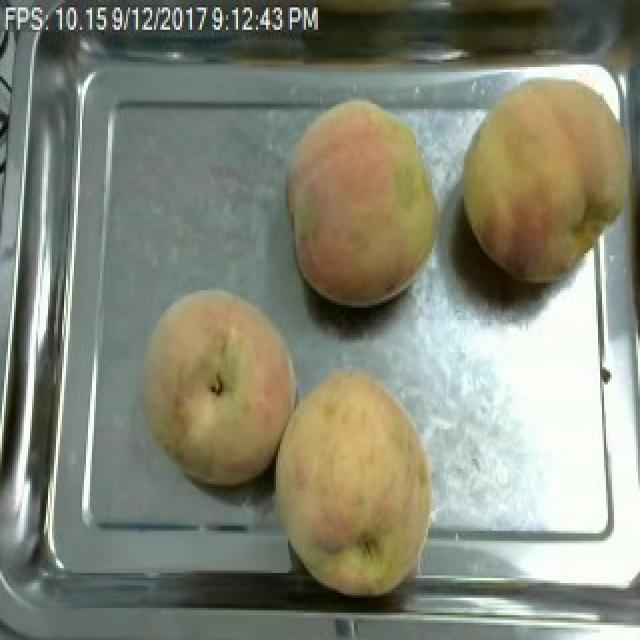Fruit: (450, 55, 640, 295), (264, 360, 446, 608), (278, 89, 448, 315), (130, 282, 310, 493)
